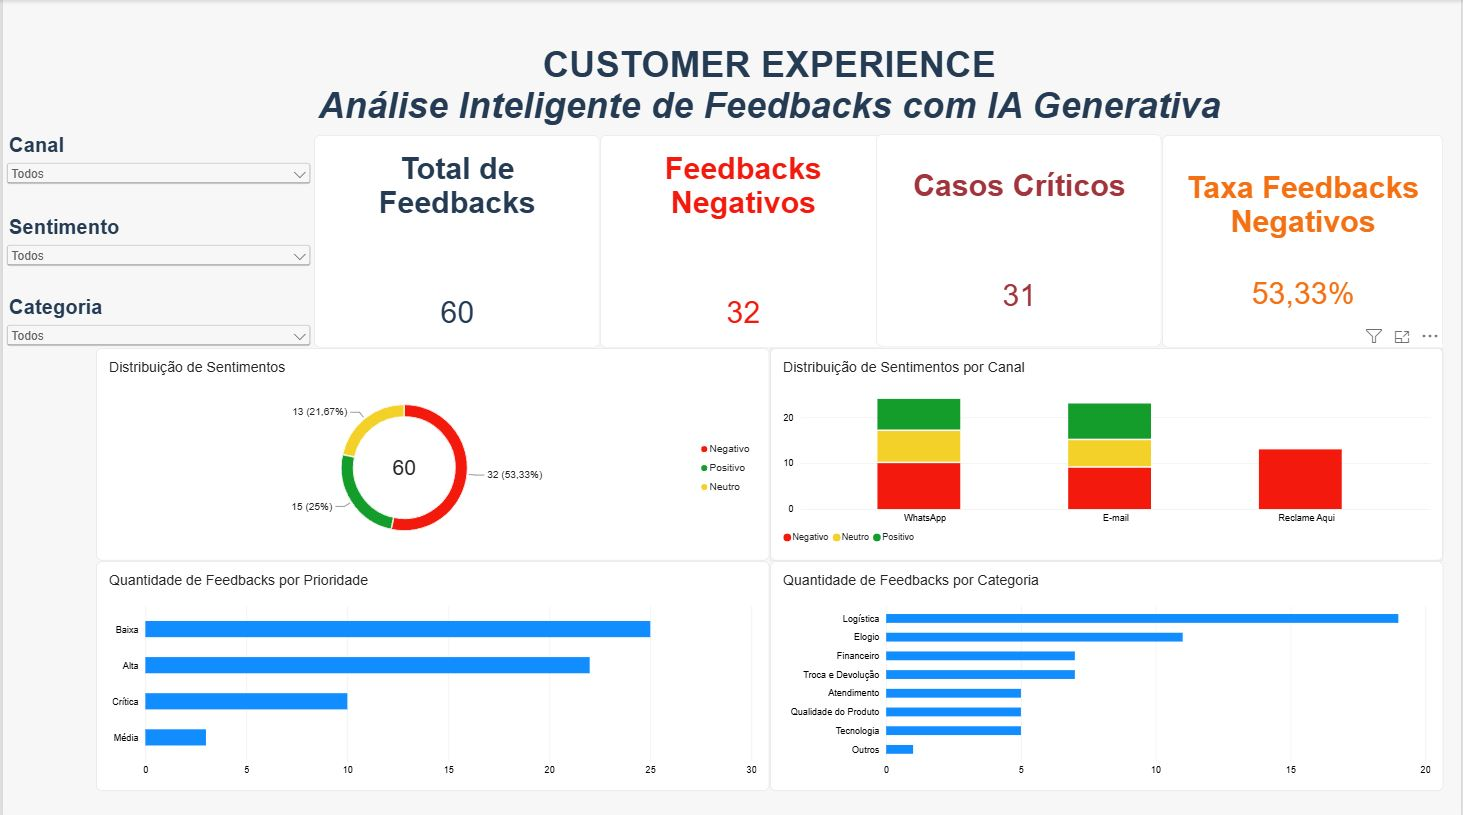

This screenshot's page, from the dashboard's own definition file:
{"tool":"powerbi","page":{"name":"CX","canvas":[1920,1080],"ordinal":0},"visuals":[{"type":"cardVisual","title":"Total de Feedbacks","fields":{"Data":["CountNonNull(feedbacks_cx_powerbi.id_feedback)"]},"box":[410,178,376.4,280.1],"z":0},{"type":"cardVisual","fields":{"Data":["feedbacks_cx_powerbi.Feedbacks Negativos"]},"box":[786.4,178,376.4,280.1],"z":1000},{"type":"cardVisual","fields":{"Data":["feedbacks_cx_powerbi.Casos Críticos"]},"box":[1149.7,176.5,376.4,280.1],"z":2000},{"type":"cardVisual","fields":{"Data":["feedbacks_cx_powerbi.Taxa Feedbacks Negativos"]},"box":[1526.1,178,370.6,280.1],"z":3000},{"type":"donutChart","title":"Distribuição de Sentimentos","fields":{"Category":["feedbacks_cx_powerbi.sentimento_ia"],"Y":["CountNonNull(feedbacks_cx_powerbi.feedback)"]},"box":[122.6,458.1,887.1,280.1],"z":4000},{"type":"clusteredBarChart","title":"Quantidade de Feedbacks por Categoria","fields":{"Category":["feedbacks_cx_powerbi.categoria_ia"],"Y":["CountNonNull(feedbacks_cx_powerbi.feedback)"]},"box":[1009.6,738.2,887.1,303.5],"z":5000},{"type":"columnChart","title":"Distribuição de Sentimentos por Canal","fields":{"Category":["feedbacks_cx_powerbi.canal"],"Series":["feedbacks_cx_powerbi.sentimento_ia"],"Y":["CountNonNull(feedbacks_cx_powerbi.feedback)"]},"box":[1009.6,458.1,887.1,280.1],"z":6000},{"type":"clusteredBarChart","title":"Quantidade de Feedbacks por Prioridade","fields":{"Category":["feedbacks_cx_powerbi.prioridade_ia"],"Y":["CountNonNull(feedbacks_cx_powerbi.feedback)"]},"box":[122.6,738.2,887.1,303.5],"z":7000},{"type":"textbox","box":[122.6,0,1774.1,178],"z":8000},{"type":"slicer","fields":{"Values":["feedbacks_cx_powerbi.canal"]},"box":[0,176.5,410,108],"z":8001},{"type":"slicer","fields":{"Values":["feedbacks_cx_powerbi.sentimento_ia"]},"box":[0,284.5,410,67.1],"z":8002},{"type":"slicer","fields":{"Values":["feedbacks_cx_powerbi.categoria_ia"]},"box":[0,389.5,410,68.6],"z":8003}]}

Visuals, with their boxes in screenshot pixels (x1, y1, x2, y2), scaled from the page's 1920x1080 canvas onto the 1463x815 screenshot:
"Total de Feedbacks" cardVisual: bbox=(312, 134, 599, 346)
cardVisual - feedbacks_cx_powerbi.Feedbacks Negativos: bbox=(599, 134, 886, 346)
cardVisual - feedbacks_cx_powerbi.Casos Críticos: bbox=(876, 133, 1163, 345)
cardVisual - feedbacks_cx_powerbi.Taxa Feedbacks Negativos: bbox=(1163, 134, 1445, 346)
"Distribuição de Sentimentos" donutChart: bbox=(93, 346, 769, 557)
"Quantidade de Feedbacks por Categoria" clusteredBarChart: bbox=(769, 557, 1445, 786)
"Distribuição de Sentimentos por Canal" columnChart: bbox=(769, 346, 1445, 557)
"Quantidade de Feedbacks por Prioridade" clusteredBarChart: bbox=(93, 557, 769, 786)
textbox: bbox=(93, 0, 1445, 134)
slicer - feedbacks_cx_powerbi.canal: bbox=(0, 133, 312, 215)
slicer - feedbacks_cx_powerbi.sentimento_ia: bbox=(0, 215, 312, 265)
slicer - feedbacks_cx_powerbi.categoria_ia: bbox=(0, 294, 312, 346)
